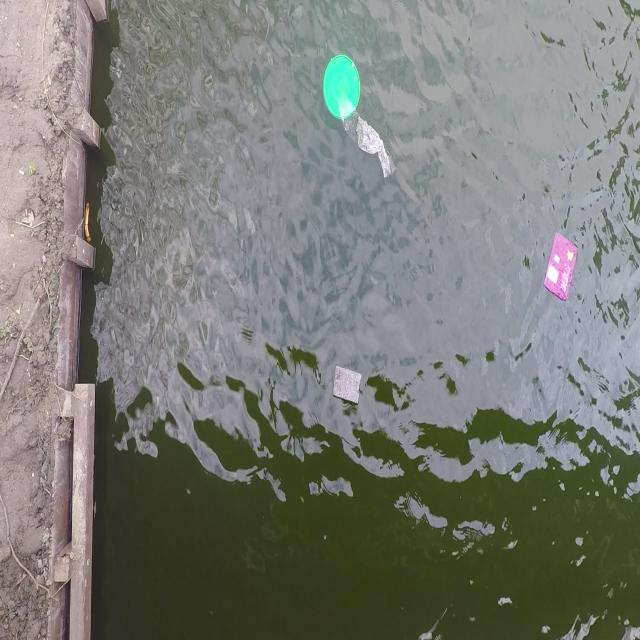Autre plastique: (319, 50, 363, 126), (541, 224, 580, 306)
Sac plastique: (346, 119, 399, 182)
